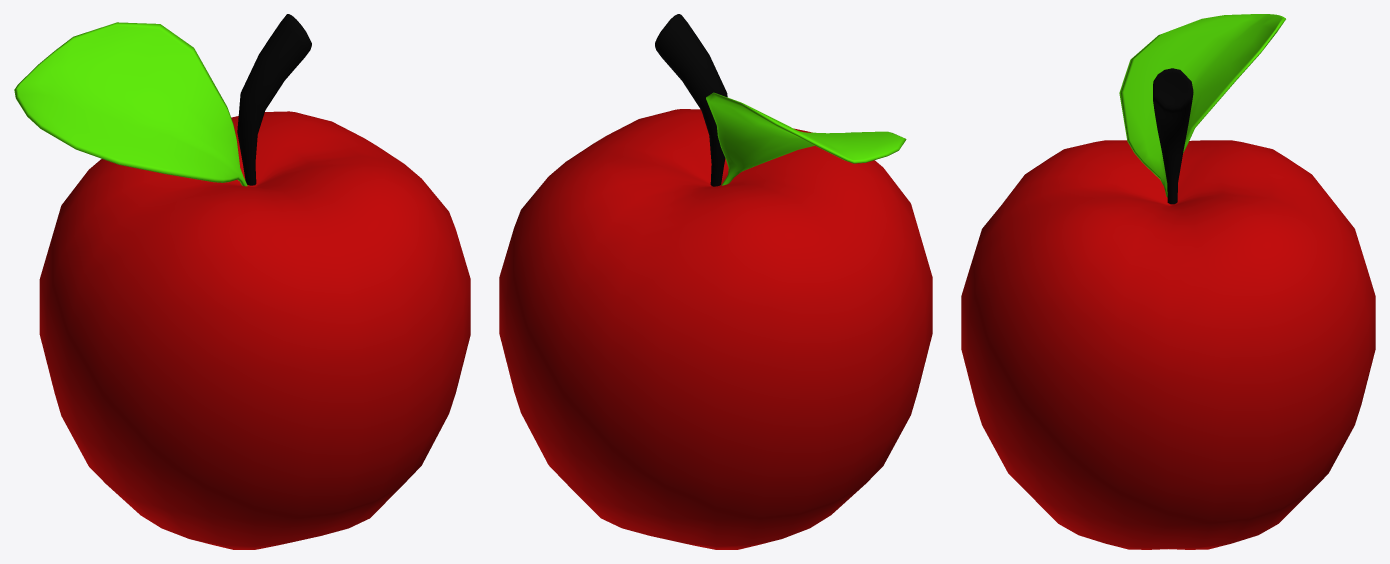
The model's file is Red_Apple.fbx.
The picture shows the model from 3 angles, left to right: view 1: azimuth 30°, elevation 25°; view 2: azimuth 150°, elevation 25°; view 3: azimuth 270°, elevation 25°; orthographic projection. The views are drawn at different scales.
Parts seen in each view (by area): view 1: Apple; view 2: Apple; view 3: Apple.
Boxes of the visible parts, x1,y1,x2,y2 form: Apple: [14, 14, 470, 549]; Apple: [499, 14, 932, 549]; Apple: [961, 14, 1375, 549].
Size of the model in its own units: 87.91 by 107 by 84.92.
